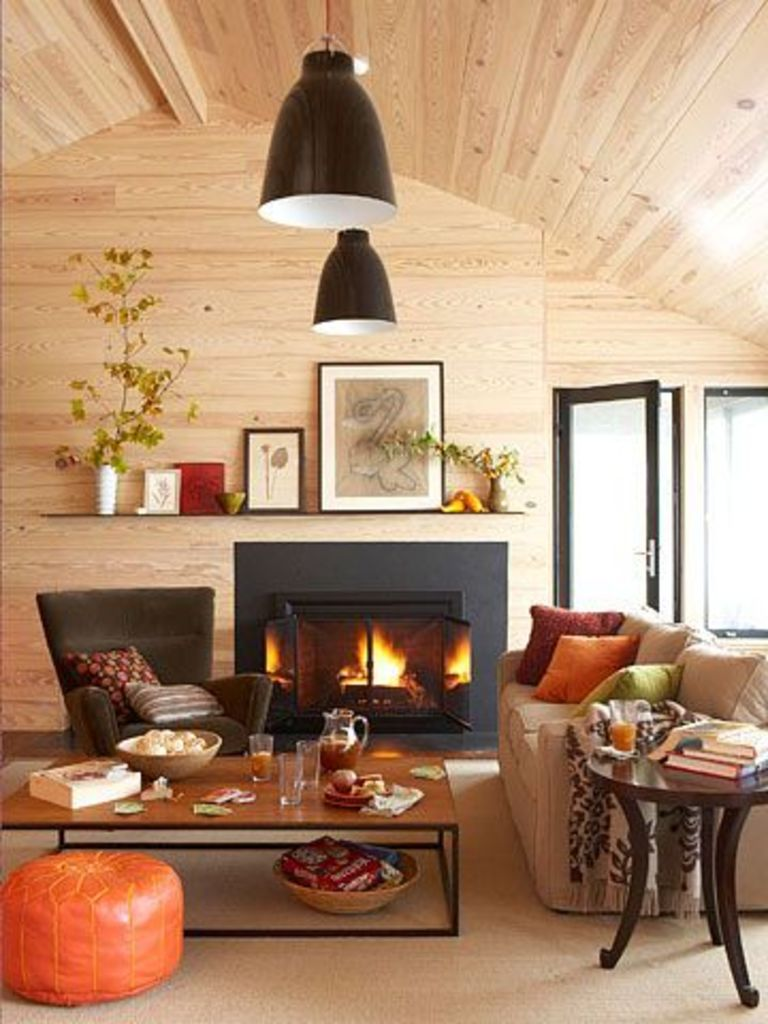Couch: (497, 578, 768, 960)
